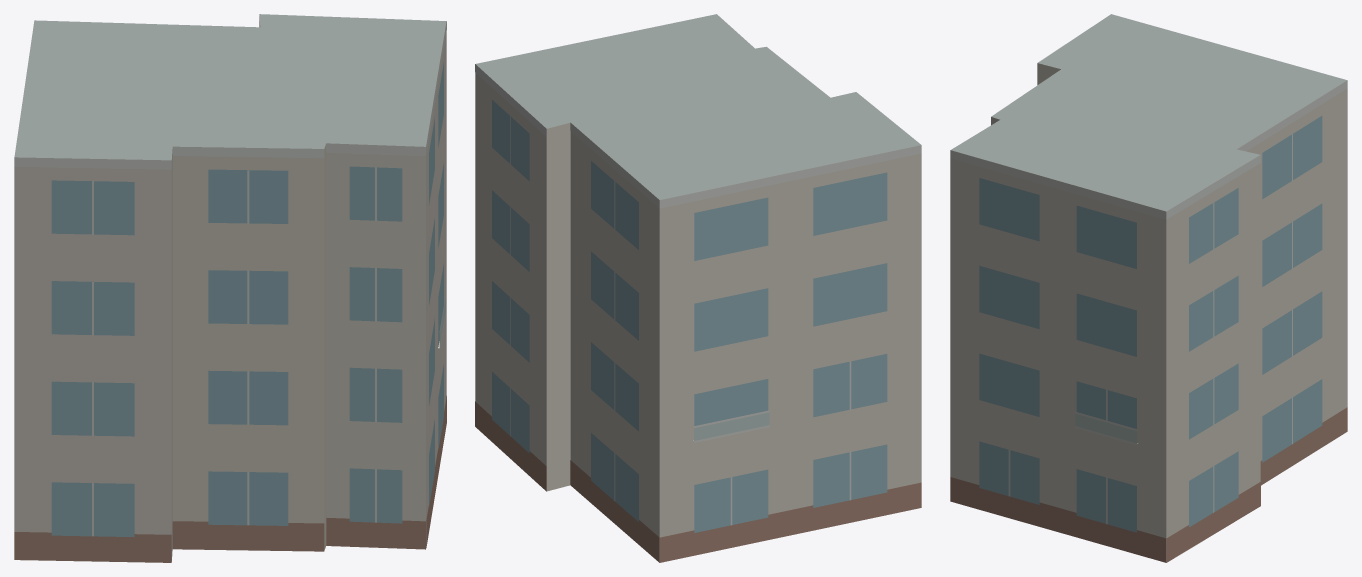
Rendered from survey-upis-32627886.glb.
3 renders of one model, left to right at view 1: azimuth 30°, elevation 25°; view 2: azimuth 150°, elevation 25°; view 3: azimuth 270°, elevation 25°, orthographic. The views are drawn at different scales.
Parts seen in each view (by area): view 1: survey-upis-32627886.tmp; view 2: survey-upis-32627886.tmp; view 3: survey-upis-32627886.tmp.
Boxes of the visible parts, left/top/right/bottom form: survey-upis-32627886.tmp: left=14, top=14, right=446, bottom=562; survey-upis-32627886.tmp: left=475, top=14, right=921, bottom=562; survey-upis-32627886.tmp: left=950, top=14, right=1347, bottom=562.
Bounding box in the file's own units: 12.73 × 10.55 × 10.82.
